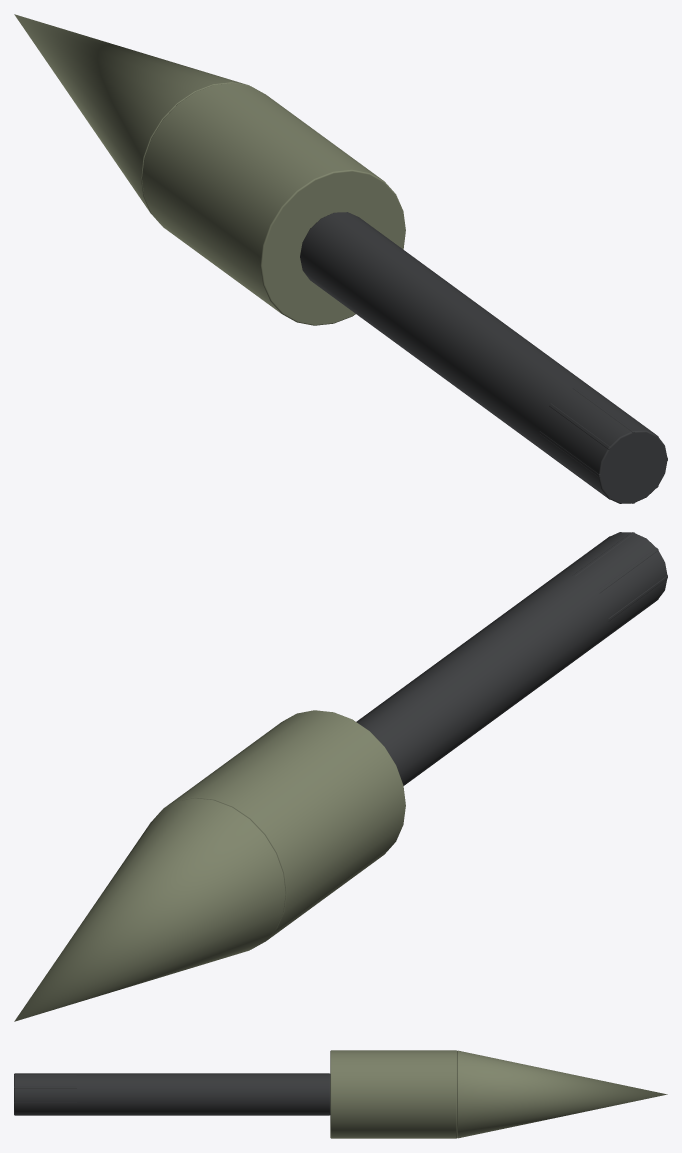
The model's file is rocket.glb.
3 views of the same model, one above another, from view 1: azimuth 30°, elevation 25°; view 2: azimuth 150°, elevation 25°; view 3: azimuth 270°, elevation 25° (orthographic). The views are drawn at different scales.
Visible parts, largest first — view 1: Body, Motor, Warhead; view 2: Warhead, Motor, Body; view 3: Motor, Body, Warhead, Fin1.
Boxes of the visible parts, x1=… form: Body: x1=142, y1=83, x2=405, y2=325; Motor: x1=300, y1=212, x2=667, y2=503; Warhead: x1=14, y1=14, x2=249, y2=219; Warhead: x1=14, y1=798, x2=285, y2=1021; Motor: x1=356, y1=532, x2=667, y2=785; Body: x1=162, y1=710, x2=405, y2=948; Motor: x1=14, y1=1073, x2=330, y2=1115; Body: x1=330, y1=1050, x2=456, y2=1138; Warhead: x1=457, y1=1050, x2=667, y2=1138; Fin1: x1=14, y1=1086, x2=76, y2=1088.
Size of the model in its own units: 0.084 by 0.084 by 0.62.
